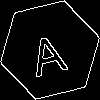A: (25, 25, 70, 77)
